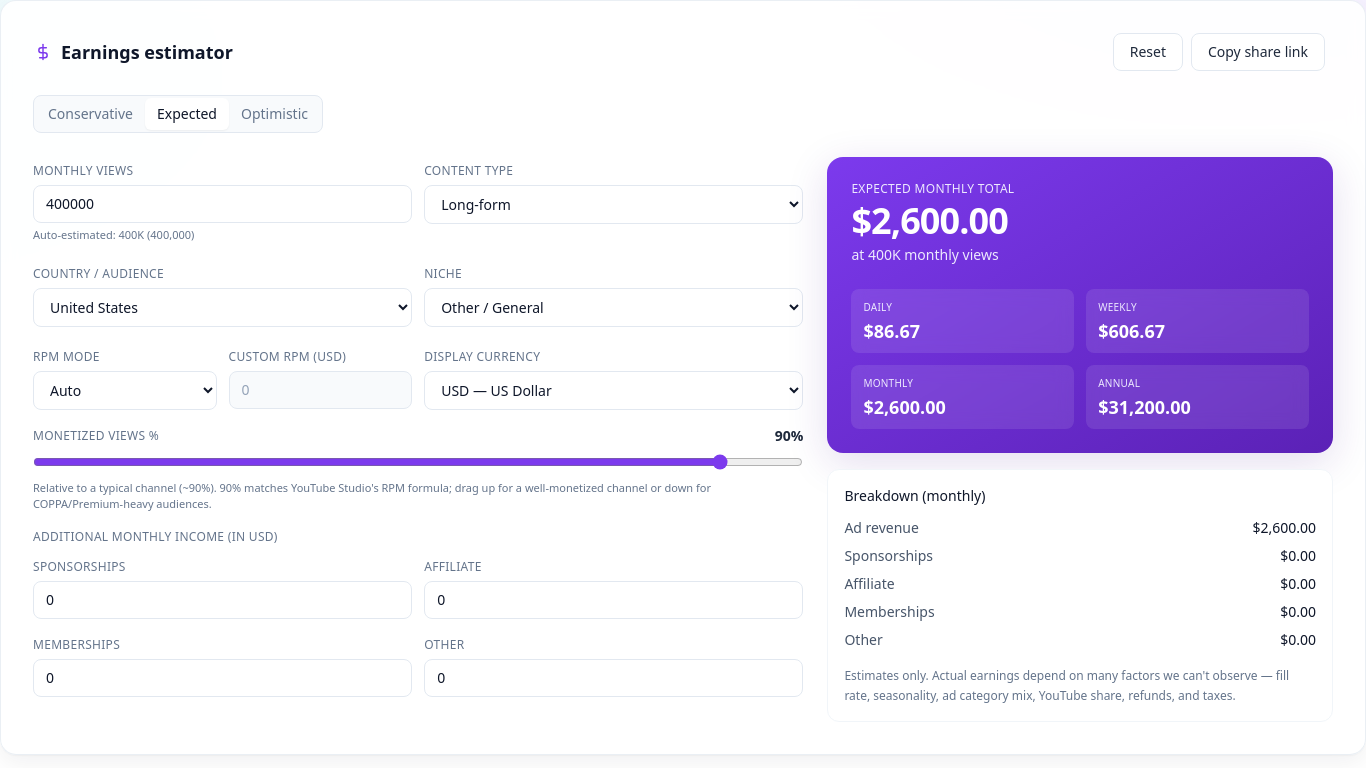
Test: EarningsCalculator — user interactions › formats the headline monthly value with the selected currency
Expected: the text with test id "earnings-monthly" shows "$", [851,196,1008,245]
Select "EUR — Euro" in the dropdown labelled "Display currency" at x=614, y=390, box [424,370,803,410]
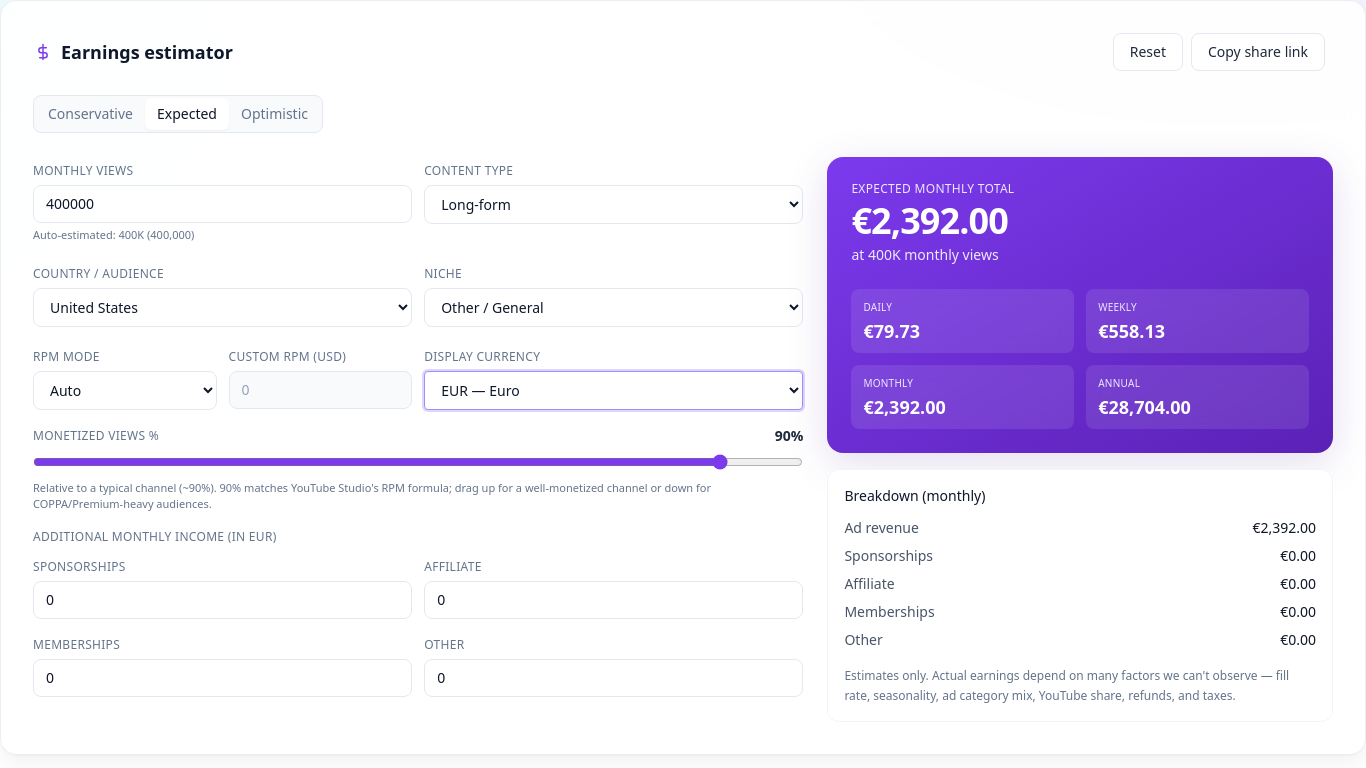
Expected: the text with test id "earnings-monthly" shows "€", [851,196,1008,245]
